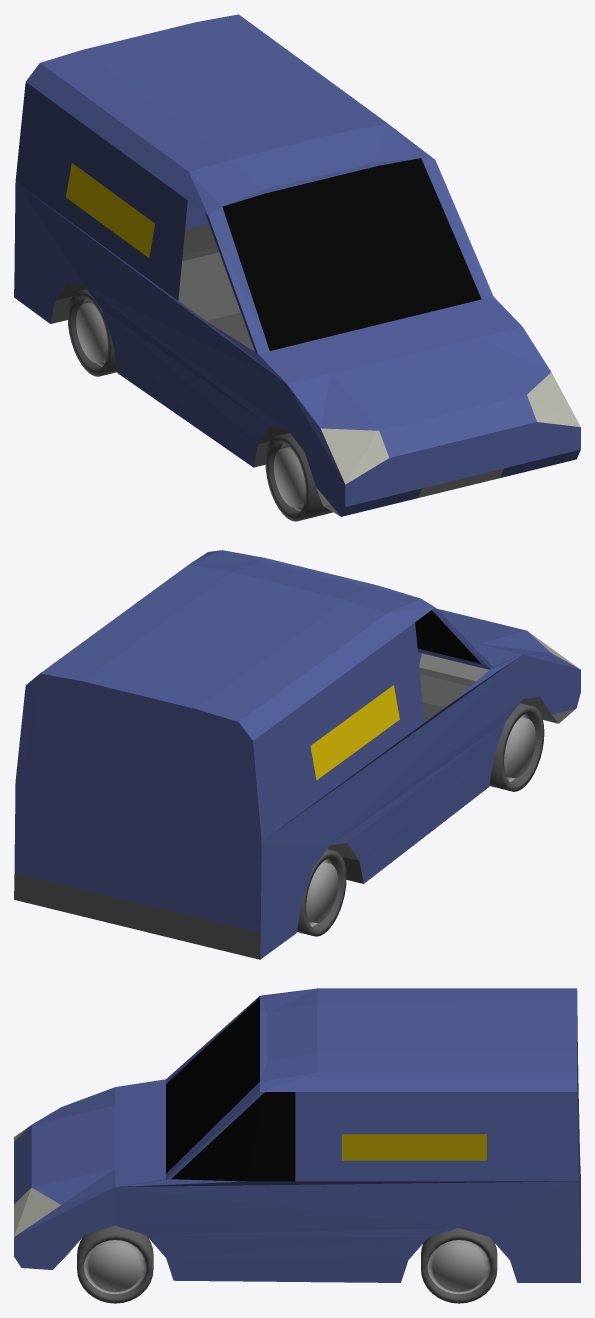
Rendered from ford-transit-connect.dae.
3 views of the same model, one above another, from view 1: azimuth 30°, elevation 25°; view 2: azimuth 150°, elevation 25°; view 3: azimuth 270°, elevation 25° (orthographic). The views are drawn at different scales.
Visible parts, largest first — view 1: Cube_001, Plane_001; view 2: Cube_001, Plane_001; view 3: Cube_001, Plane_003.
Boxes of the visible parts, bbox=[...] form: Cube_001: bbox=[14, 14, 580, 521]; Plane_001: bbox=[66, 163, 154, 257]; Cube_001: bbox=[14, 550, 580, 959]; Plane_001: bbox=[310, 685, 399, 780]; Cube_001: bbox=[14, 988, 580, 1303]; Plane_003: bbox=[342, 1134, 486, 1160].
Size of the model in its own units: 1.58 by 3.54 by 1.55.
